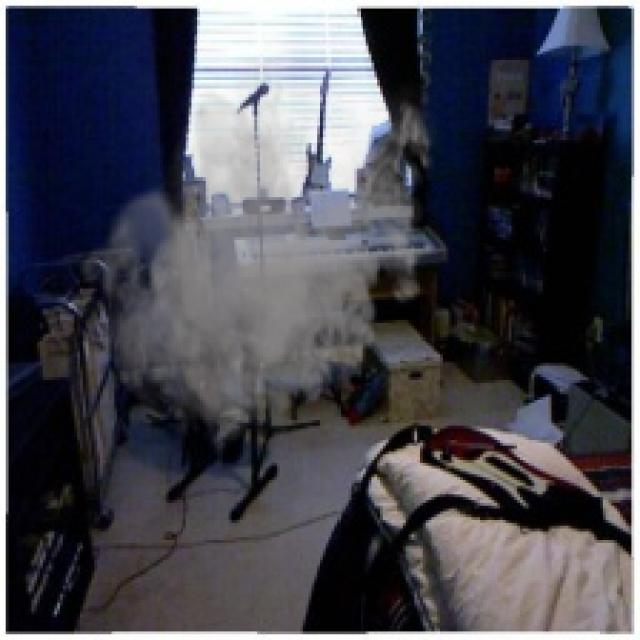smoke: (77, 32, 443, 457)
